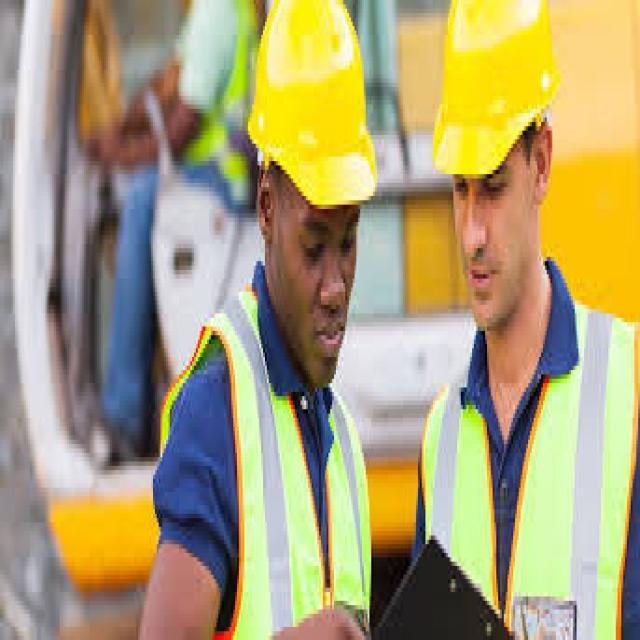yellow helmet: (224, 1, 419, 229), (426, 1, 576, 183)
